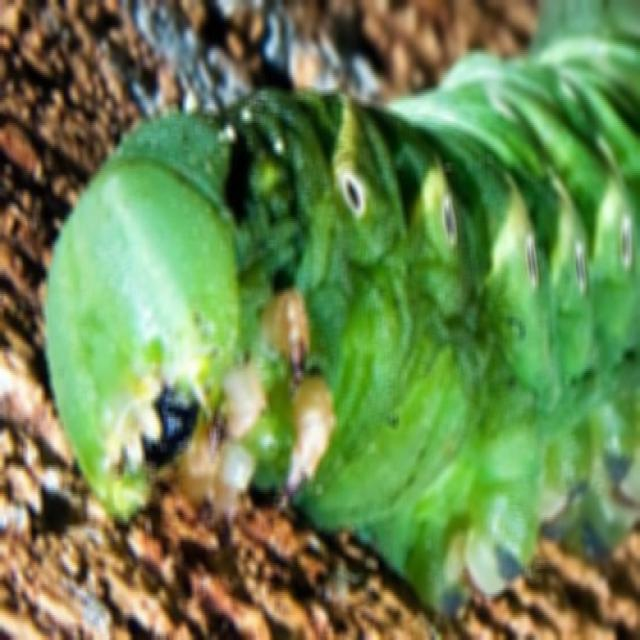army worm: (52, 23, 639, 606)
